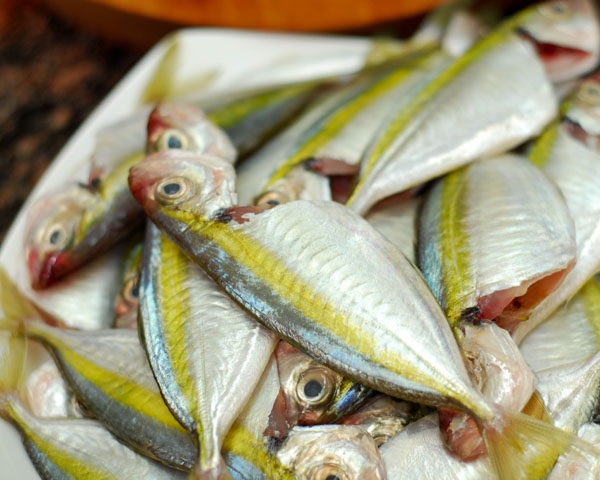Ikan Selar: (126, 136, 494, 393), (109, 83, 288, 443)
